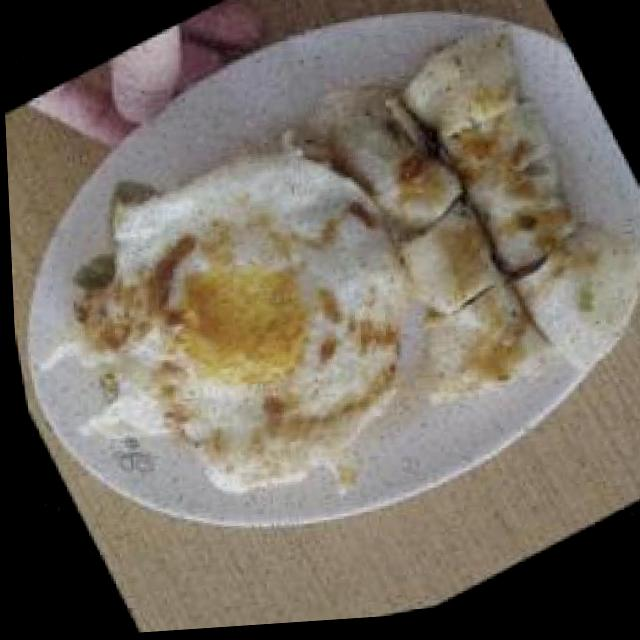fried_eggs: (24, 100, 454, 547)
